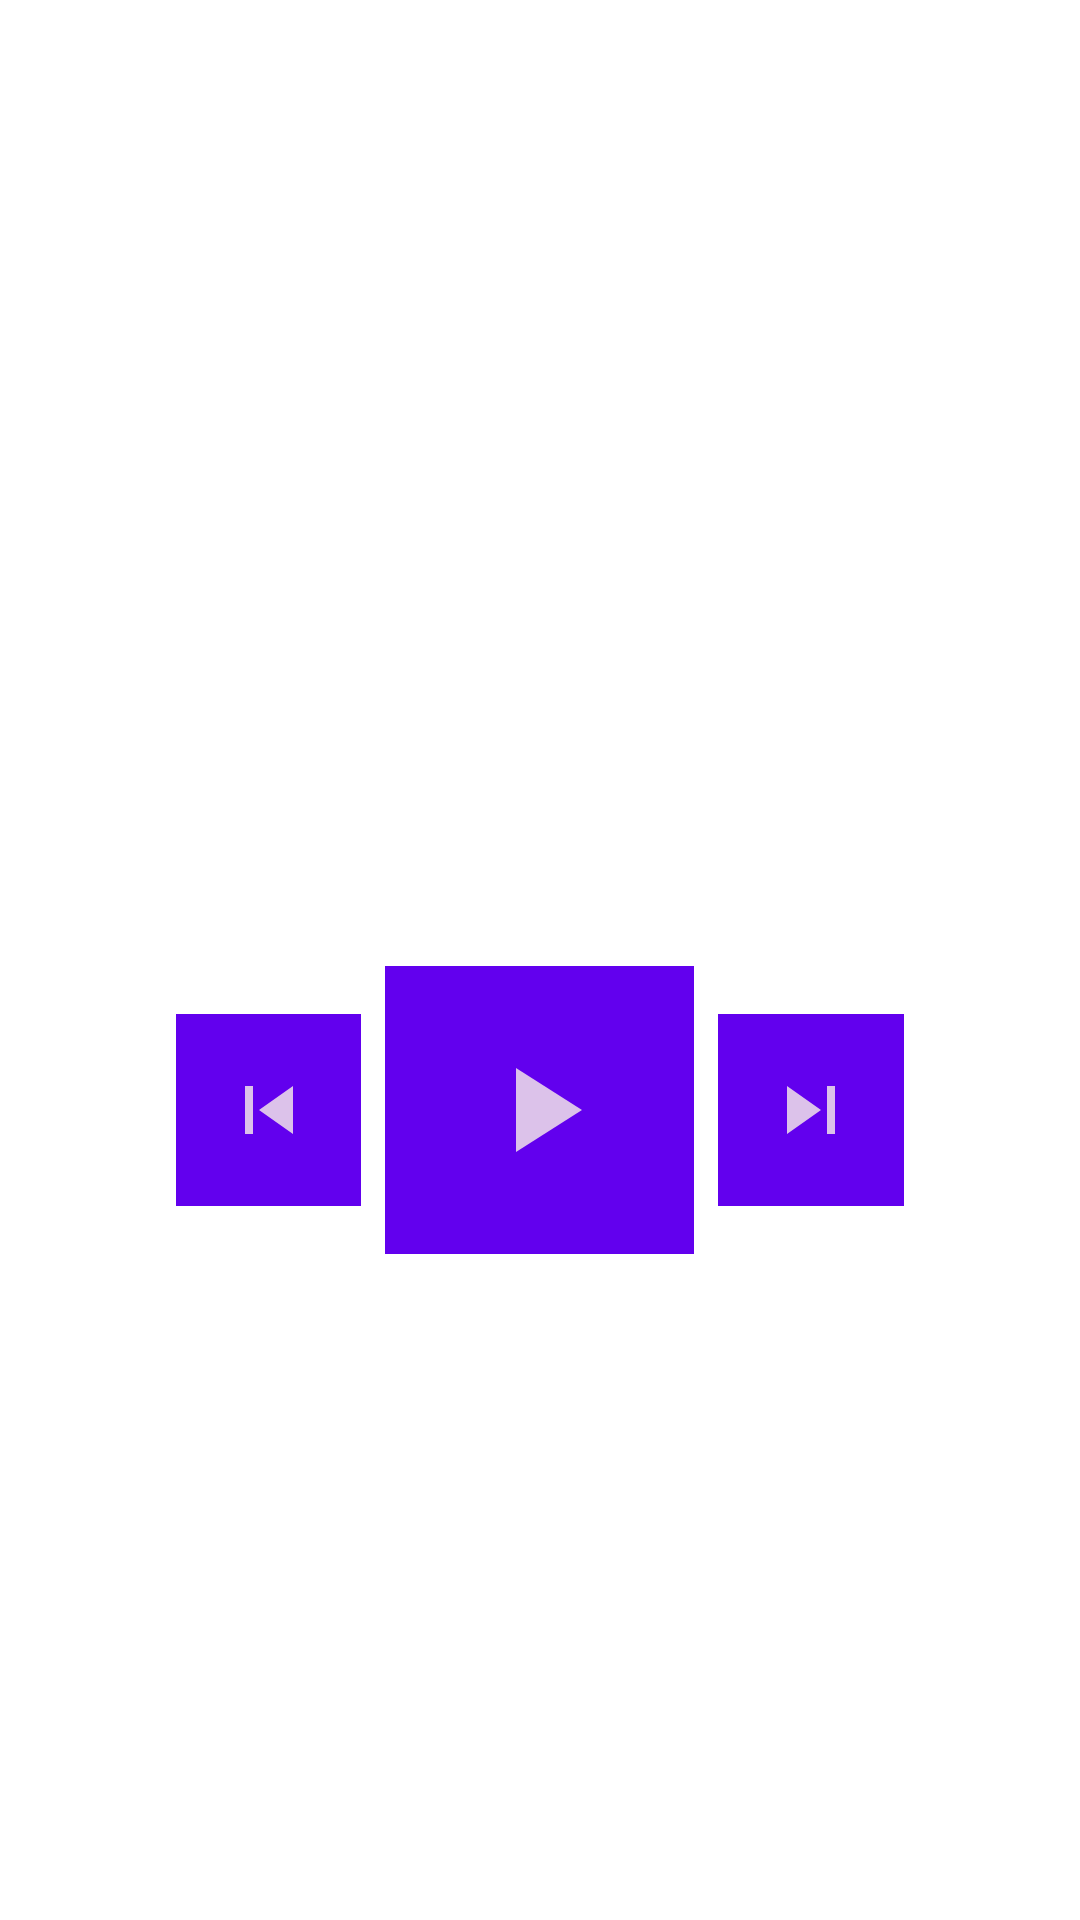

Icon bounding boxes for this 1080px×1920px phone screenshot, format box(x1, y1, x2, y2):
play: box(385, 966, 694, 1254)
skip next: box(718, 1014, 904, 1206)
skip previous: box(176, 1014, 361, 1206)
